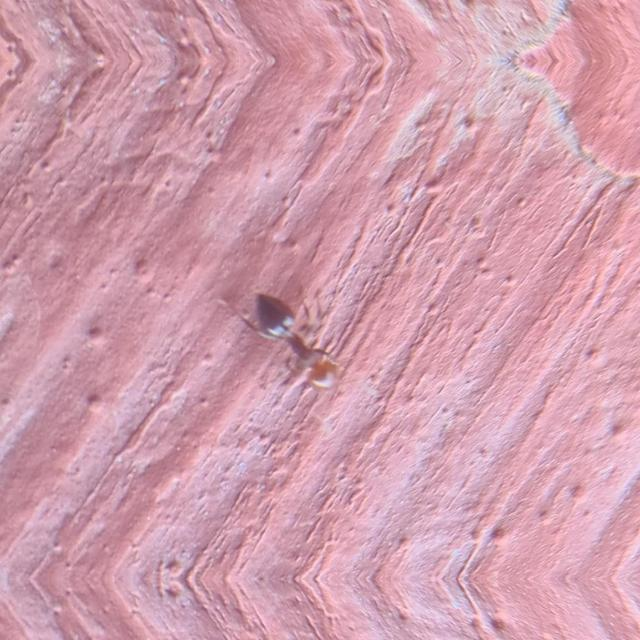Crematogaster: (246, 283, 358, 391)
